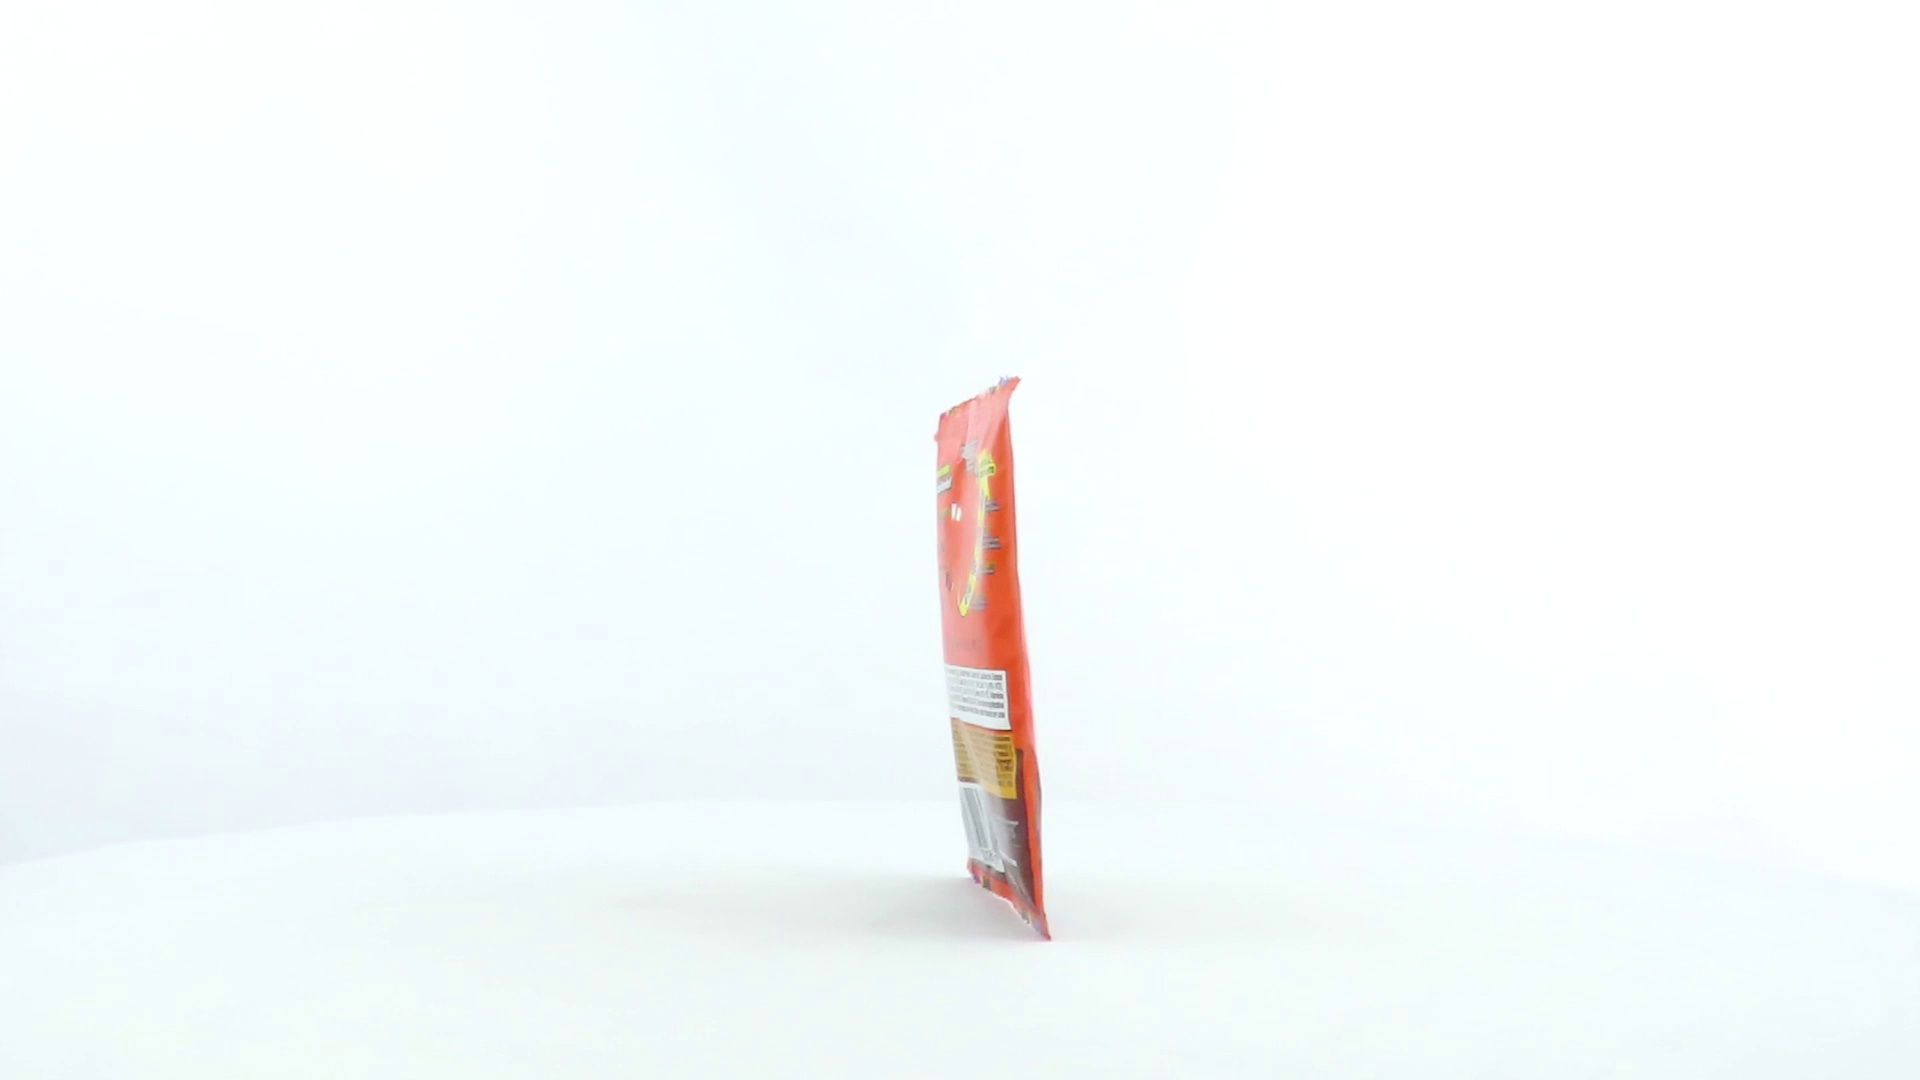COL0170103SOB02000: (928, 371, 1058, 947)
